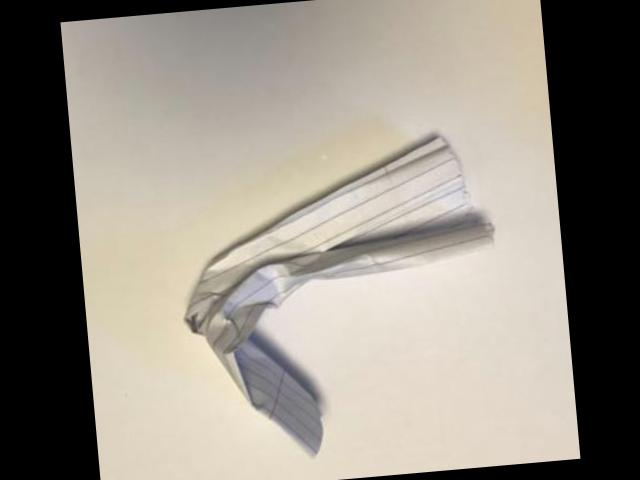cardboard paper: (188, 137, 495, 454)
